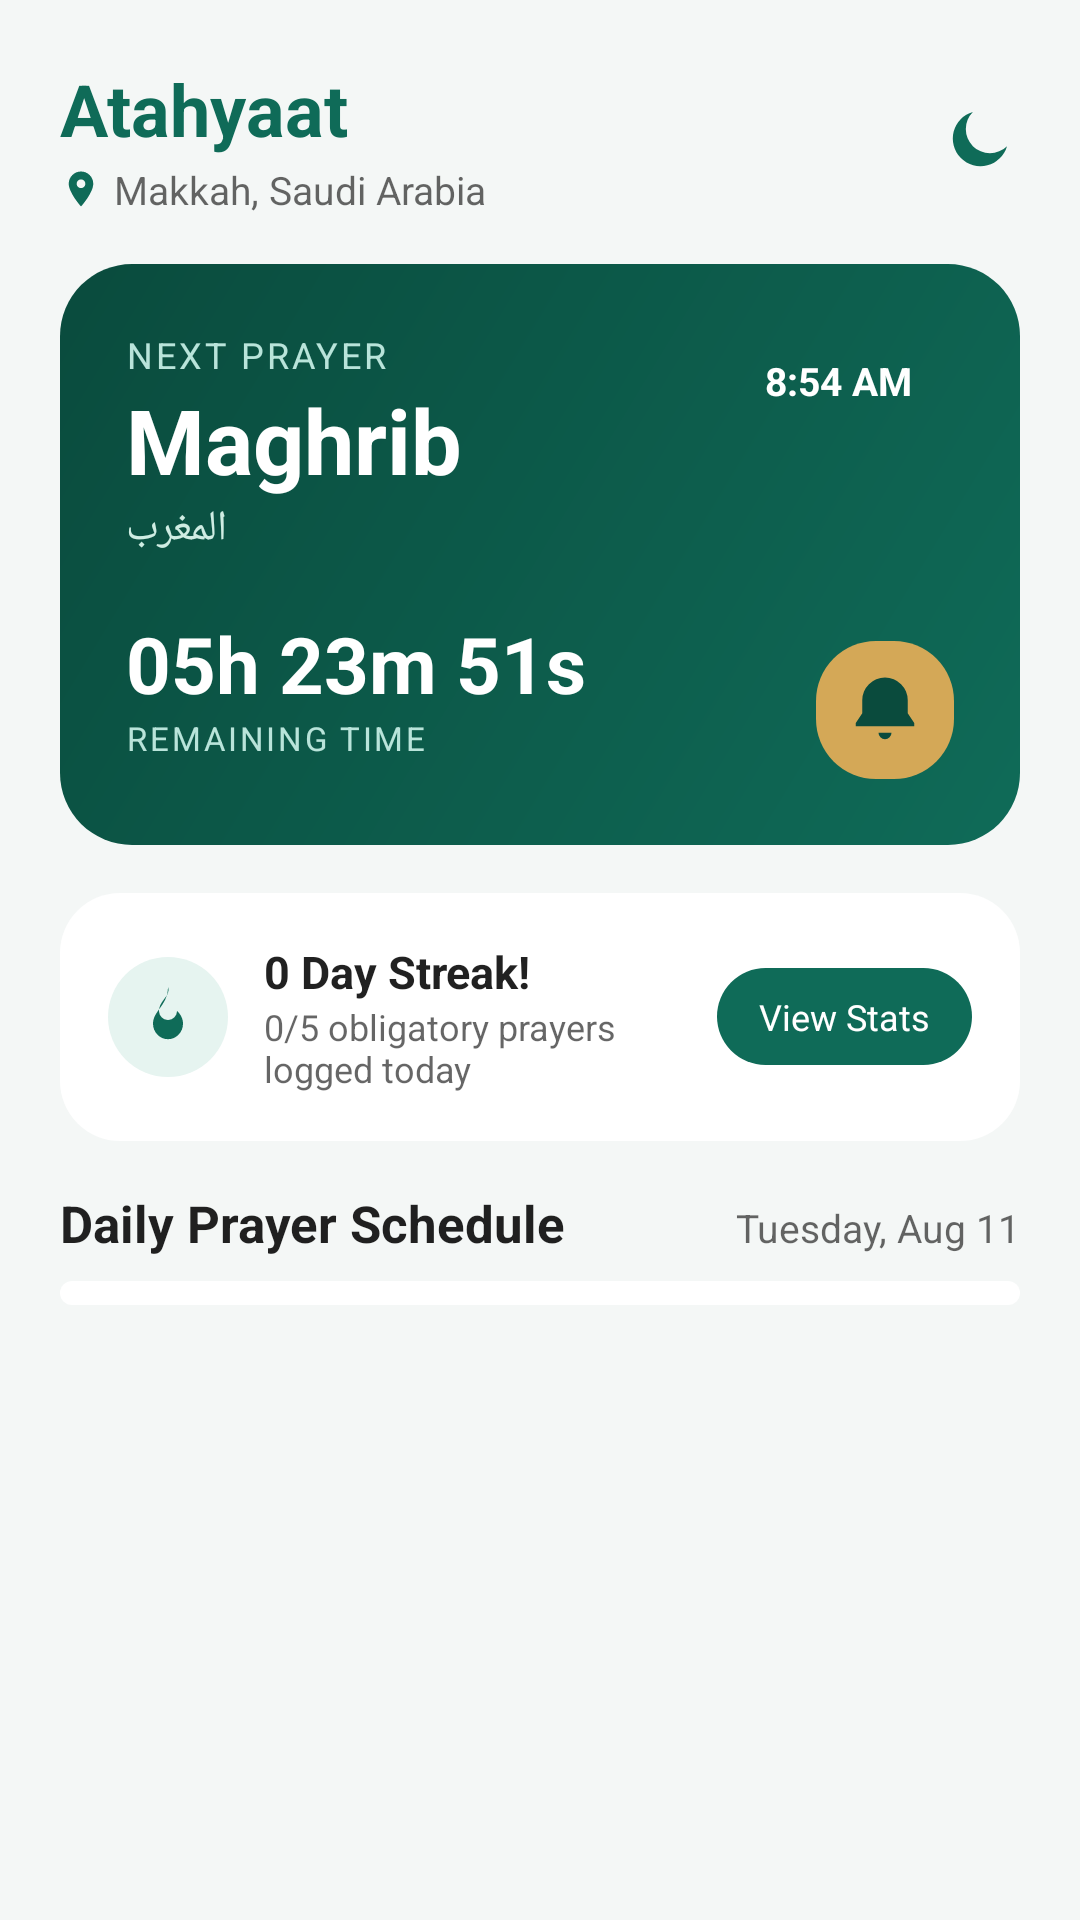

Icons on this 1080px×1920px Android screen, each with the point to tap as [x,y]:
bell: [885,710]
location: [81,188]
moon: [979,139]
